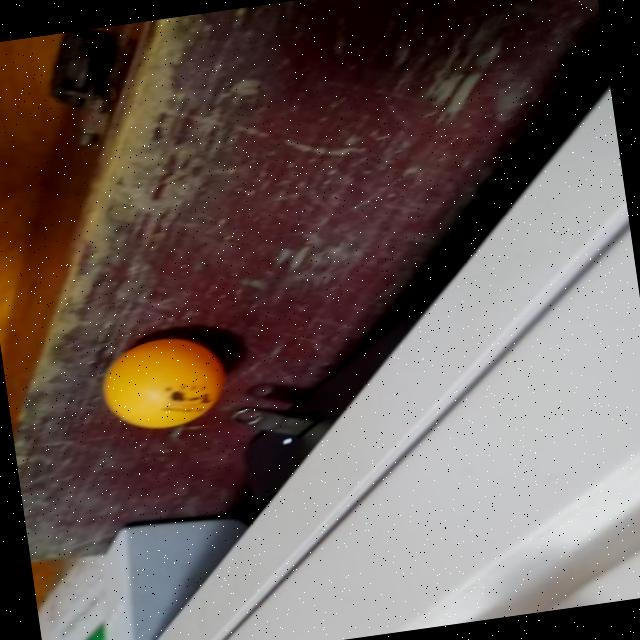ping-pong-ball: (96, 331, 234, 437)
